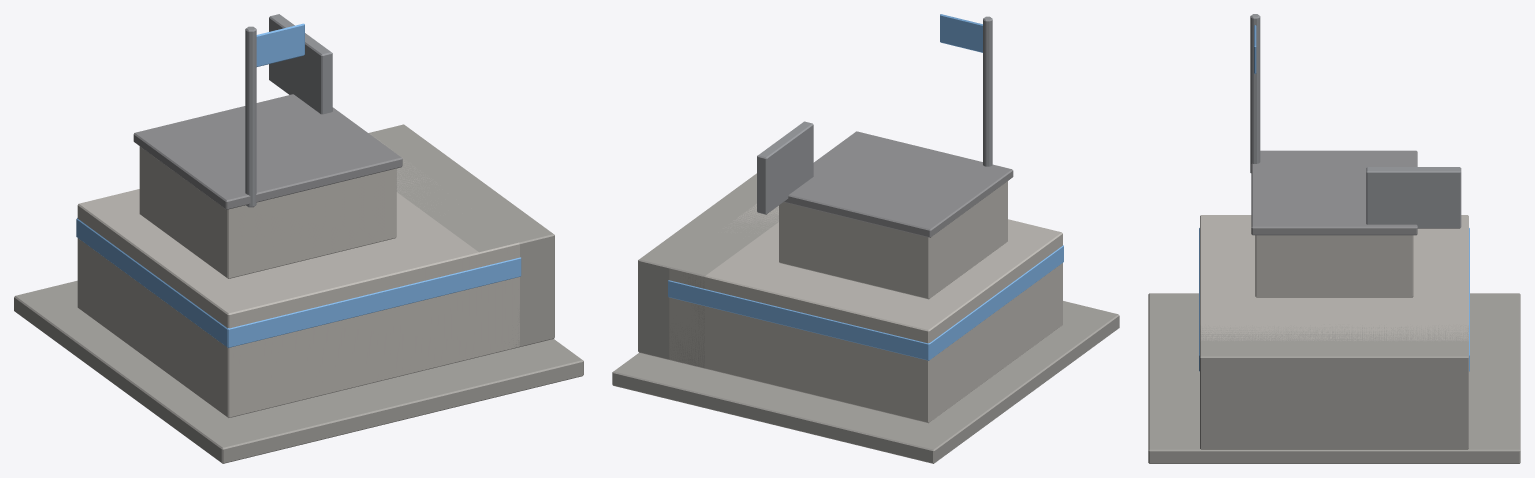
File: command_bunker.glb
3 views of the same model, side by side, from view 1: azimuth 30°, elevation 25°; view 2: azimuth 150°, elevation 25°; view 3: azimuth 270°, elevation 25° (orthographic). The views are drawn at different scales.
Visible parts, largest first — view 1: command_bunker; view 2: command_bunker; view 3: command_bunker.
Part boxes in pixels (box(x1,y1,x2,y2)): command_bunker: box(14, 14, 583, 463); command_bunker: box(612, 14, 1119, 463); command_bunker: box(1148, 14, 1520, 463).
Size of the model in its own units: 4.7 by 4.6 by 4.7.
